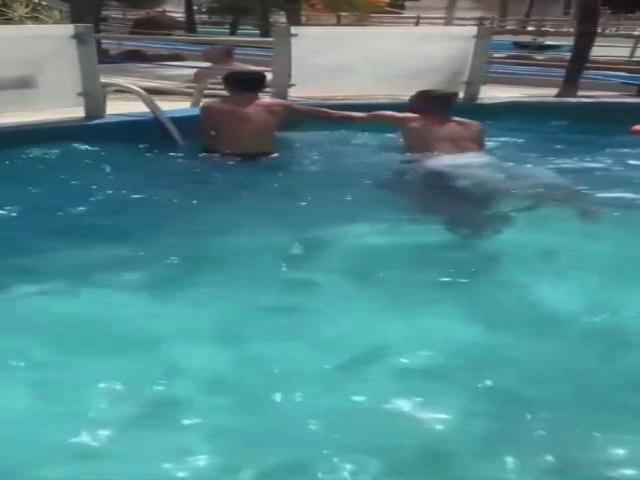swimming: (203, 66, 306, 166), (382, 78, 491, 171)
